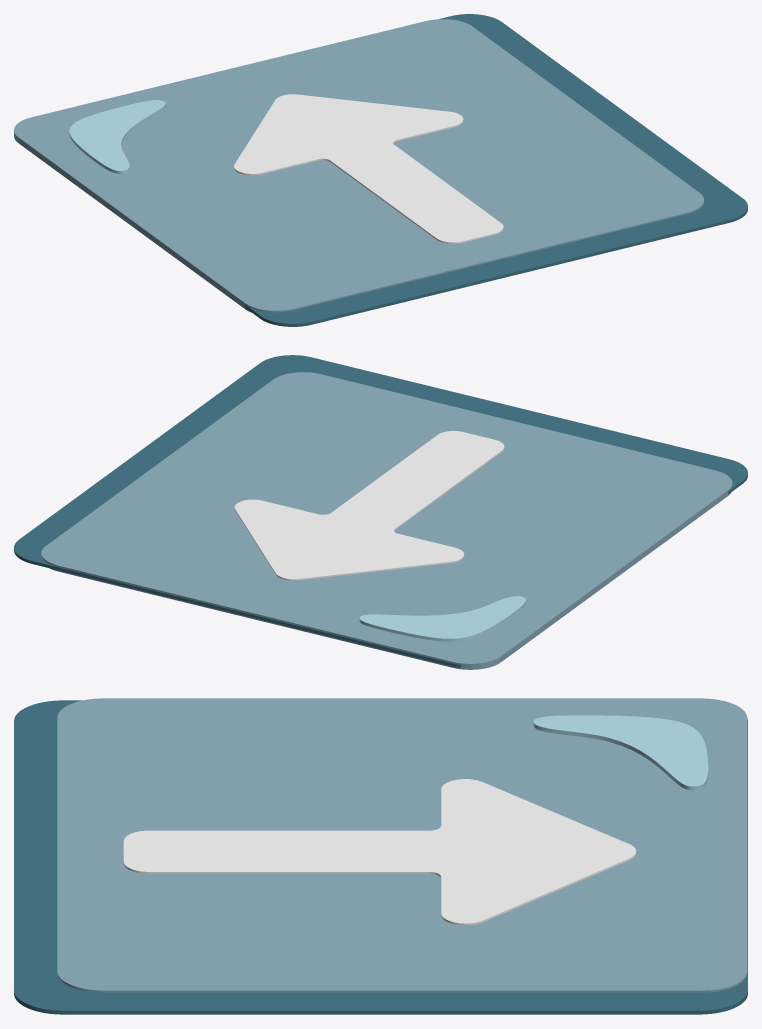
Rendered from emoji_u2b06.glb.
3 renders of one model, top to bottom at view 1: azimuth 30°, elevation 25°; view 2: azimuth 150°, elevation 25°; view 3: azimuth 270°, elevation 25°, orthographic. The views are drawn at different scales.
Parts seen in each view (by area): view 1: emoji_u2b06; view 2: emoji_u2b06; view 3: emoji_u2b06.
Part boxes in pixels (x1,y1,x2,y2): emoji_u2b06: (14, 14, 747, 326); emoji_u2b06: (14, 355, 747, 669); emoji_u2b06: (14, 698, 747, 1014).
Size of the model in its own units: 0.0339 by 0.0008 by 0.0339.
